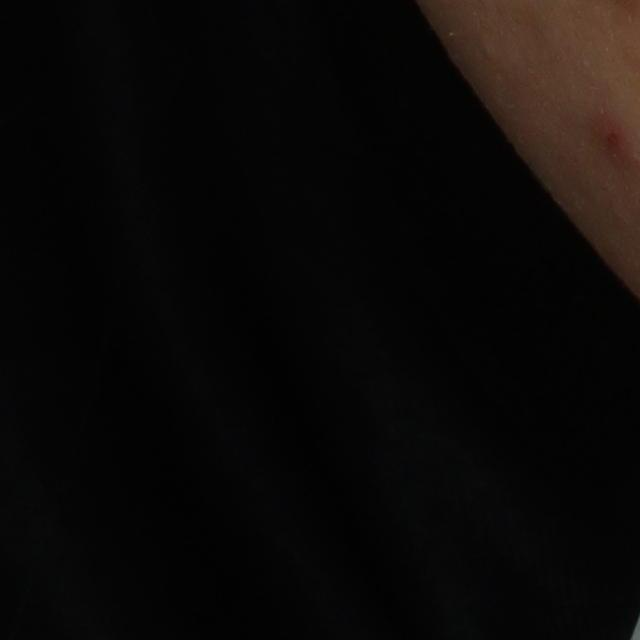papule: (588, 115, 637, 165)
